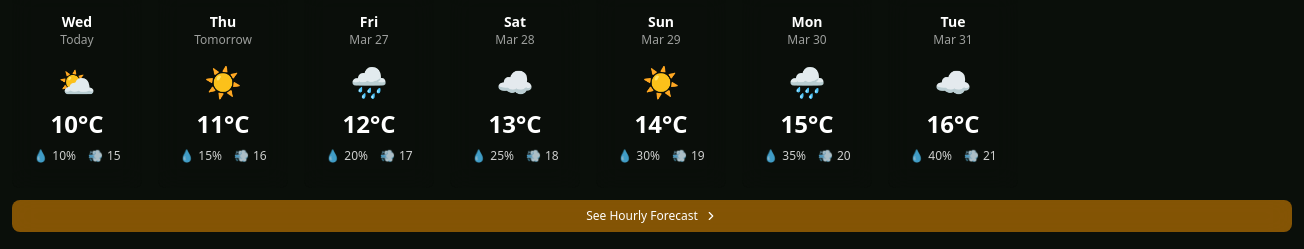
Test: WeatherForecast › expand/collapse functionality › expand button changes to collapse when expanded
Click the button with test id "forecast-expand-button".
click(652, 216)  # box [12,200,1292,232]
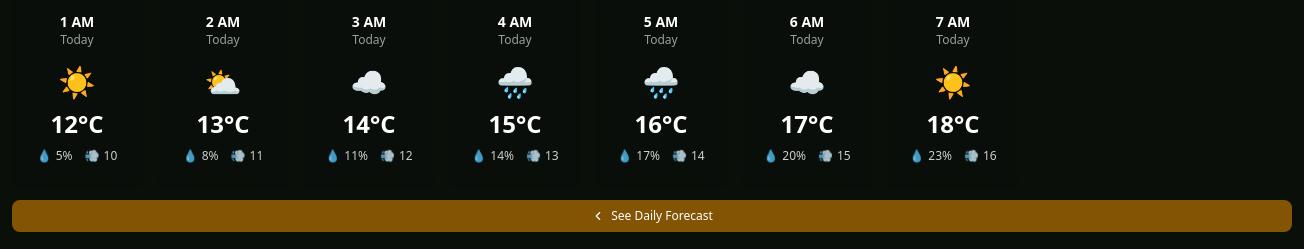
Expected: the button with test id "forecast-collapse-button" reads "See Daily Forecast", [12,200,1292,232]
